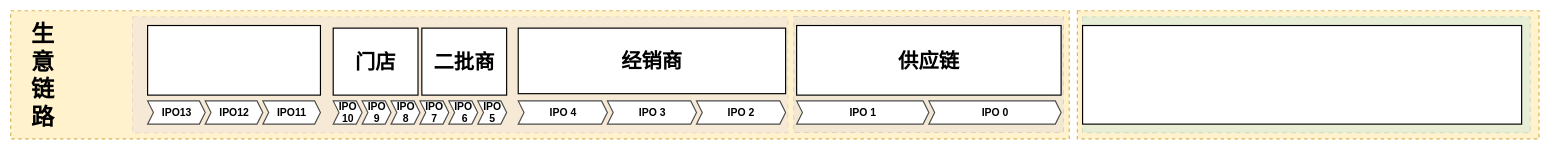
The diagram is 1549 pixels wide and 149 high, and some of its shapes have lost their labels. The shapes that lost their labels are listed below. From the top down, each one's box as (x1, y1, x2, y2) in pixels, then its label:
(147, 25, 321, 95): 消费者
(1082, 25, 1522, 124): 企业运营支持
